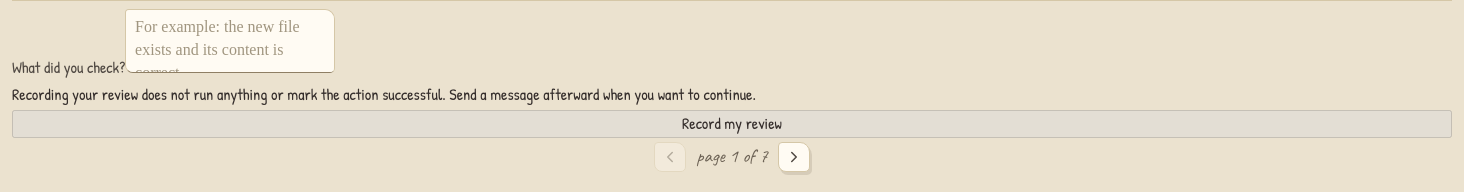
Test: records an explicit review without starting work or claiming success
Expected: the button "Record my review" is disabled, [12,110,1452,138]
Type "I checked the file; the new draft is there." into the text box labelled "What did you check?".
click(230, 41); type("I checked the file; the new draft is there.")  # box [125,9,335,73]
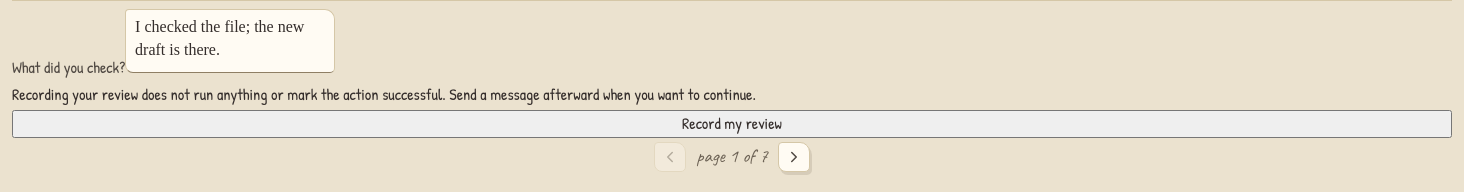
Click the button "Record my review".
click(732, 124)  # box [12,110,1452,138]
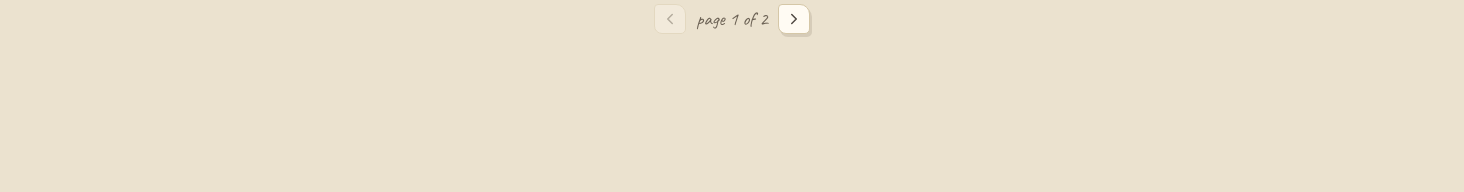
Result: the button "Record my review" is gone
